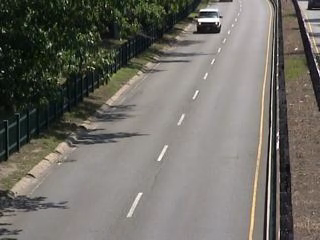truck: (196, 8, 224, 35)
